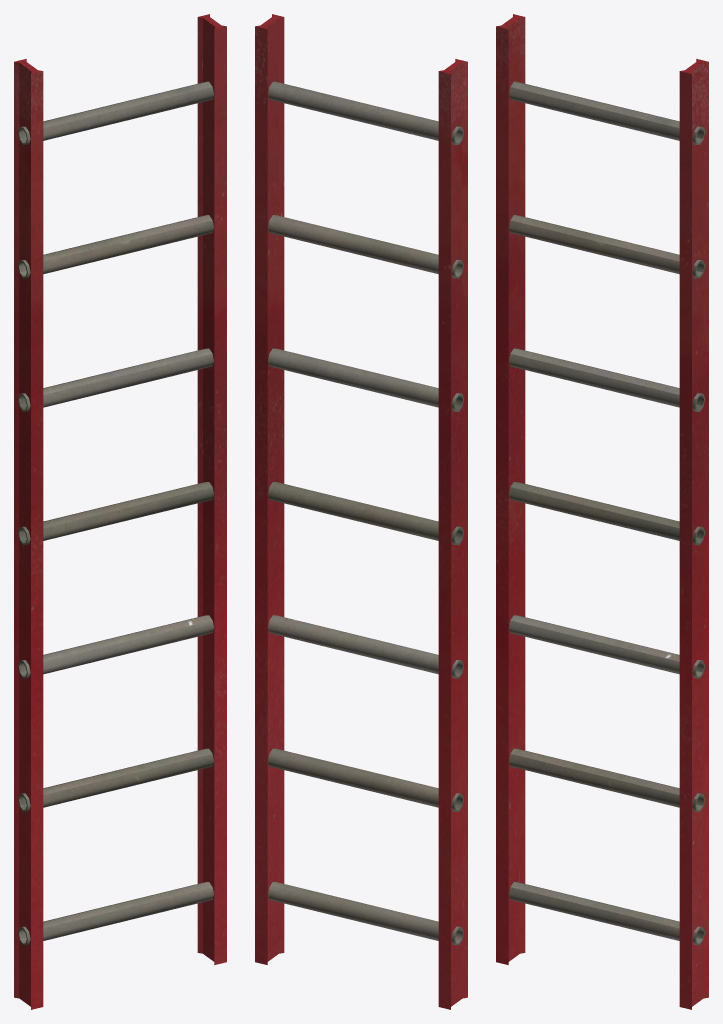
The model's file is ladder.glb.
3 renders of one model, left to right at view 1: azimuth 30°, elevation 25°; view 2: azimuth 150°, elevation 25°; view 3: azimuth 330°, elevation 25°, orthographic.
Visible parts, largest first — view 1: Cylinder_002_Material_001_0; view 2: Cylinder_002_Material_001_0; view 3: Cylinder_002_Material_001_0.
Part boxes in pixels (<box>): Cylinder_002_Material_001_0: <box>14,14,226,1009</box>; Cylinder_002_Material_001_0: <box>255,14,467,1009</box>; Cylinder_002_Material_001_0: <box>496,14,708,1009</box>.
Bounding box in the file's own units: 0.4929 × 2.25 × 0.0734.
Materials: 1 (1 with a texture image).
